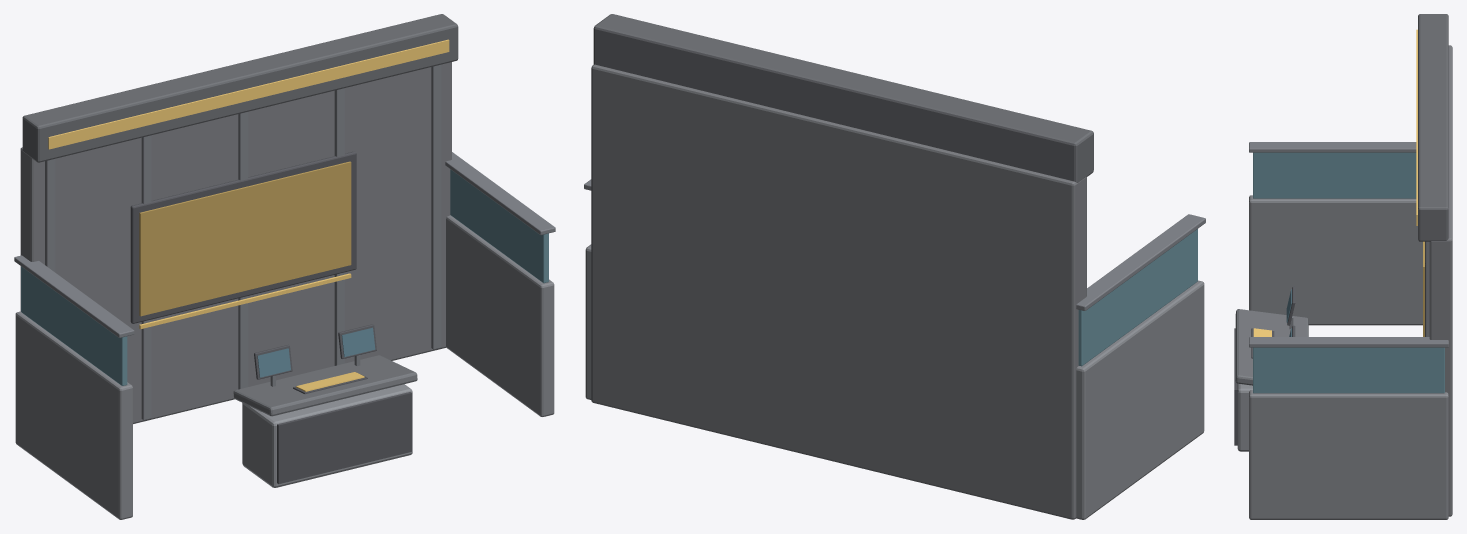
The model's file is fob_booth.fbx.
The picture shows the model from 3 angles, left to right: view 1: azimuth 30°, elevation 25°; view 2: azimuth 150°, elevation 25°; view 3: azimuth 270°, elevation 25°; orthographic projection. The views are drawn at different scales.
Parts seen in each view (by area): view 1: fob_booth; view 2: fob_booth; view 3: fob_booth.
Boxes of the visible parts, bbox=[...] form: fob_booth: bbox=[14, 14, 555, 519]; fob_booth: bbox=[584, 14, 1205, 519]; fob_booth: bbox=[1234, 14, 1452, 519].
Size of the model in its own units: 6.22 by 4.45 by 2.84.
